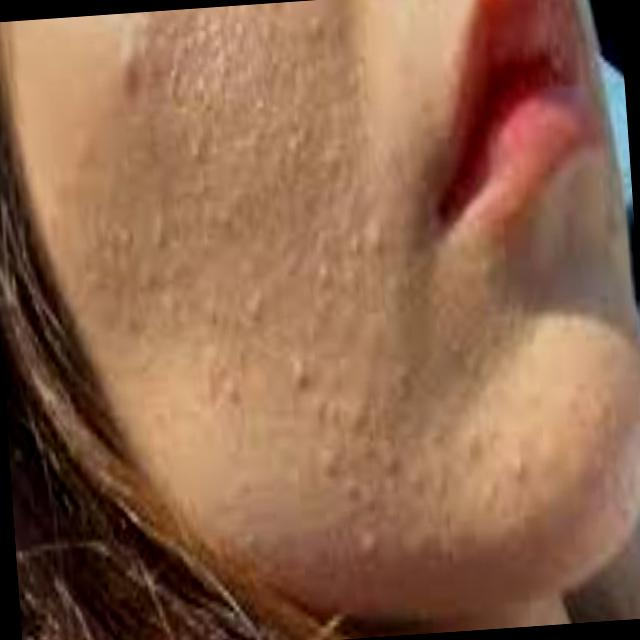fungal: (192, 209, 439, 583), (87, 0, 361, 249)
